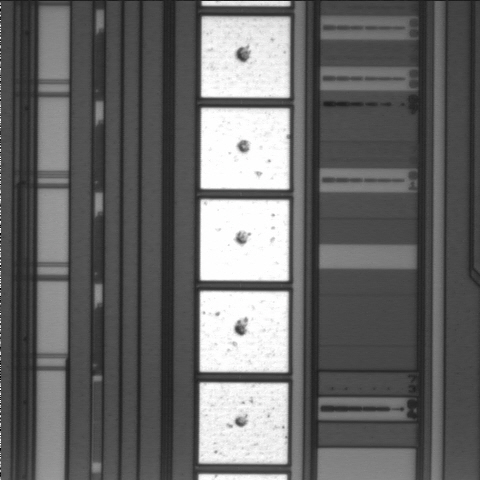pad: (200, 199, 289, 281), (201, 17, 290, 98), (201, 108, 290, 189), (200, 291, 289, 372), (199, 383, 288, 464)
